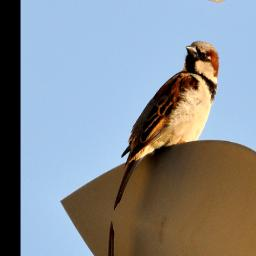Swallow: (111, 26, 226, 231)
